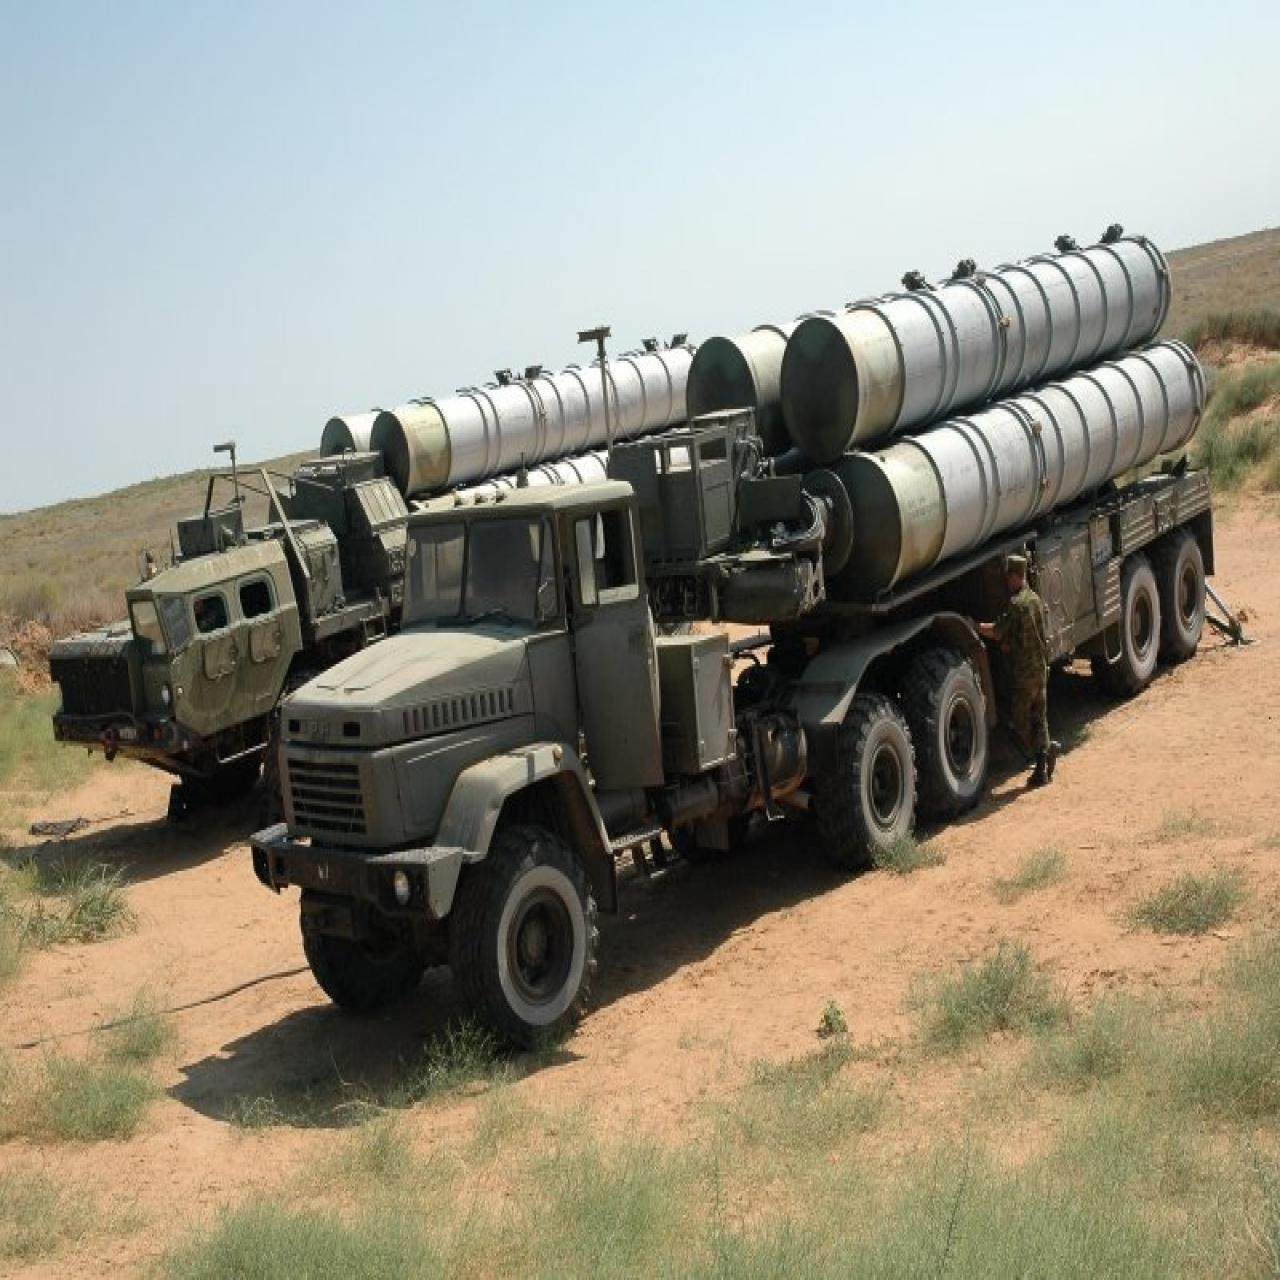MIL_Veh: (284, 226, 1220, 1044), (53, 335, 703, 818)
